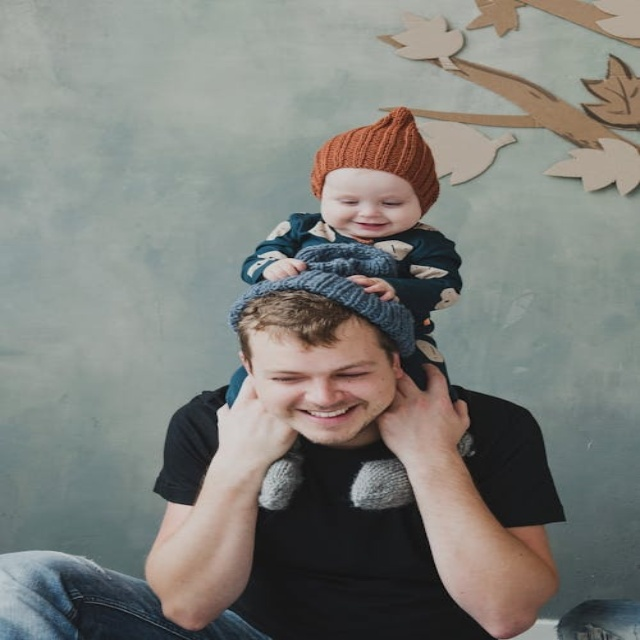Sin_gafas: (257, 361, 385, 388), (325, 187, 410, 209)
Sin_guantes: (378, 356, 481, 448), (201, 367, 297, 458), (342, 269, 401, 307), (257, 255, 307, 285)
Sin_mascara: (279, 402, 379, 437), (343, 214, 399, 236)
